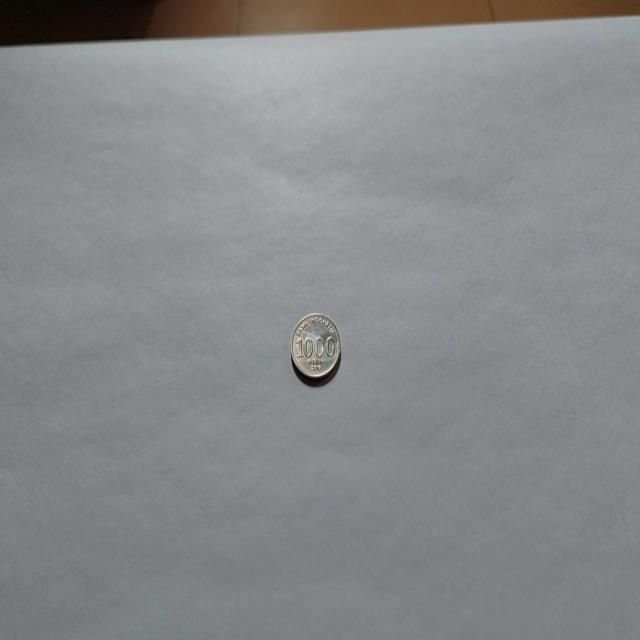seribu rupiah koin: (289, 311, 341, 383)
